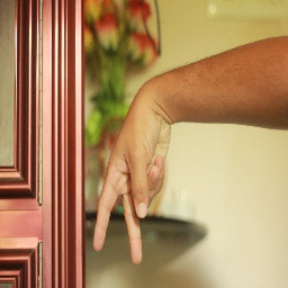Y: (92, 105, 172, 266)
